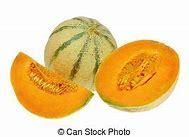Melon Ripe: (96, 39, 182, 113), (10, 52, 95, 120)
